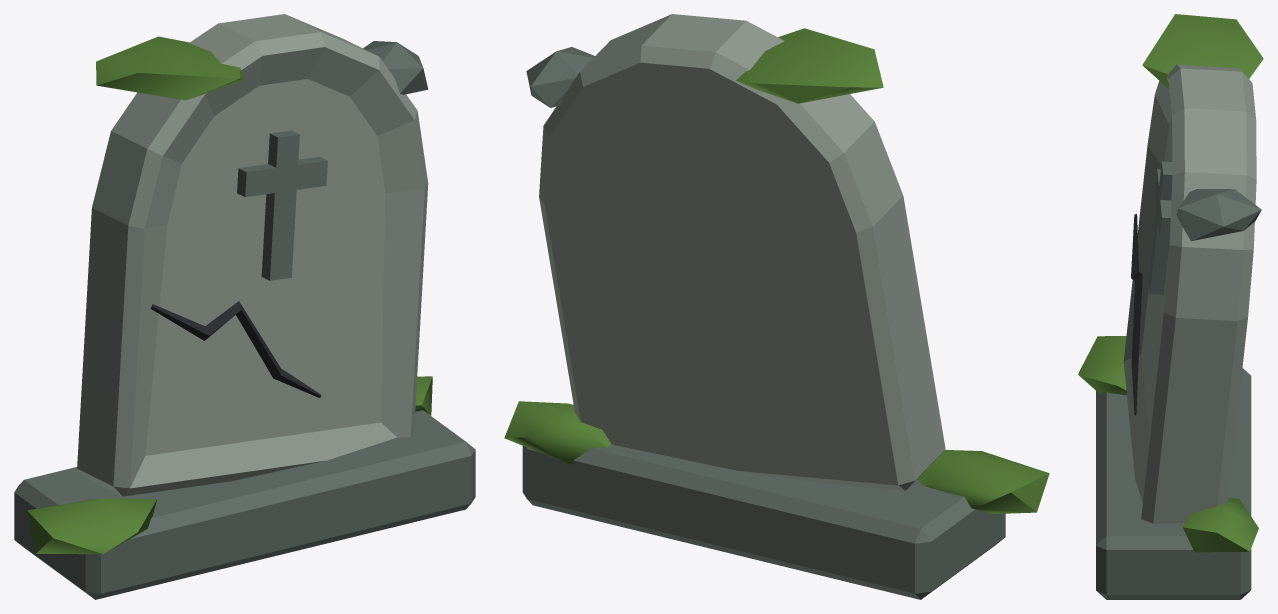
File: tombstone_a.glb
3 renders of one model, left to right at view 1: azimuth 30°, elevation 25°; view 2: azimuth 150°, elevation 25°; view 3: azimuth 270°, elevation 25°, orthographic. The views are drawn at different scales.
Parts seen in each view (by area): view 1: tombstone_a; view 2: tombstone_a; view 3: tombstone_a.
Part boxes in pixels (x1=…): tombstone_a: x1=14, y1=14, x2=475, y2=599; tombstone_a: x1=504, y1=14, x2=1049, y2=599; tombstone_a: x1=1078, y1=14, x2=1263, y2=599.
Size of the model in its own units: 0.686 by 0.7075 by 0.263.
